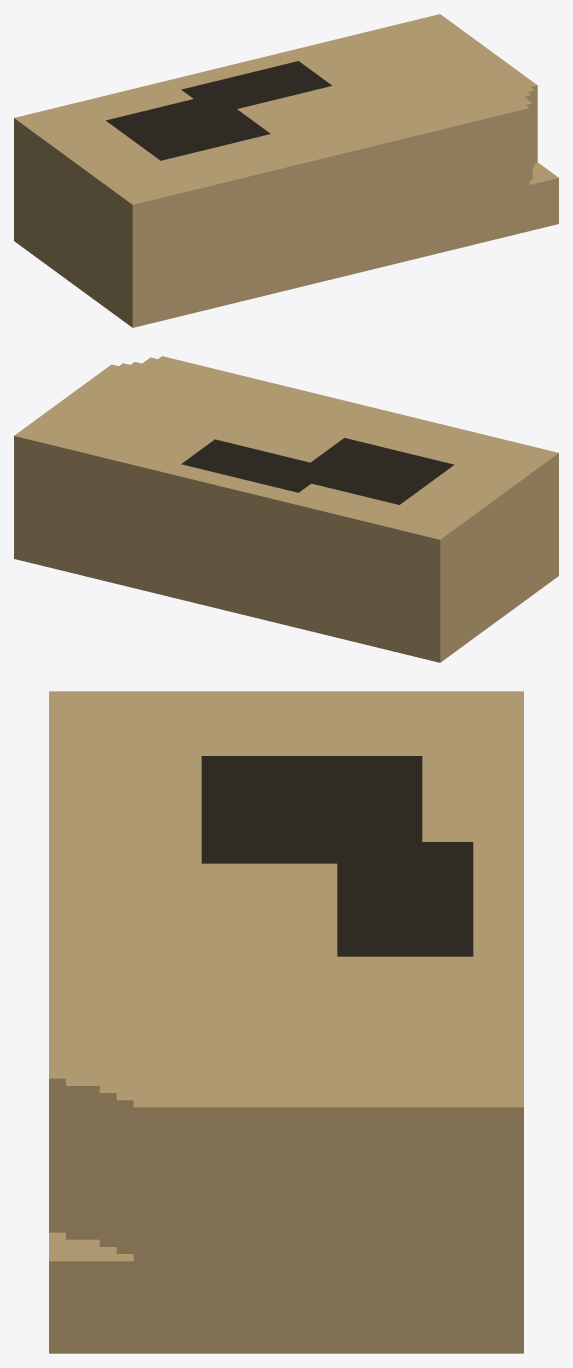
Rendered from fire_brick.glb.
3 renders of one model, top to bottom at view 1: azimuth 30°, elevation 25°; view 2: azimuth 150°, elevation 25°; view 3: azimuth 270°, elevation 25°, orthographic. The views are drawn at different scales.
Visible parts, largest first — view 1: fire_brick:compound; view 2: fire_brick:compound; view 3: fire_brick:compound.
Part boxes in pixels (x1,y1,x2,y2): fire_brick:compound: (14,14,558,327); fire_brick:compound: (14,356,558,662); fire_brick:compound: (49,691,523,1353).
Bounding box in the file's own units: 0.232 × 0.064 × 0.112.
